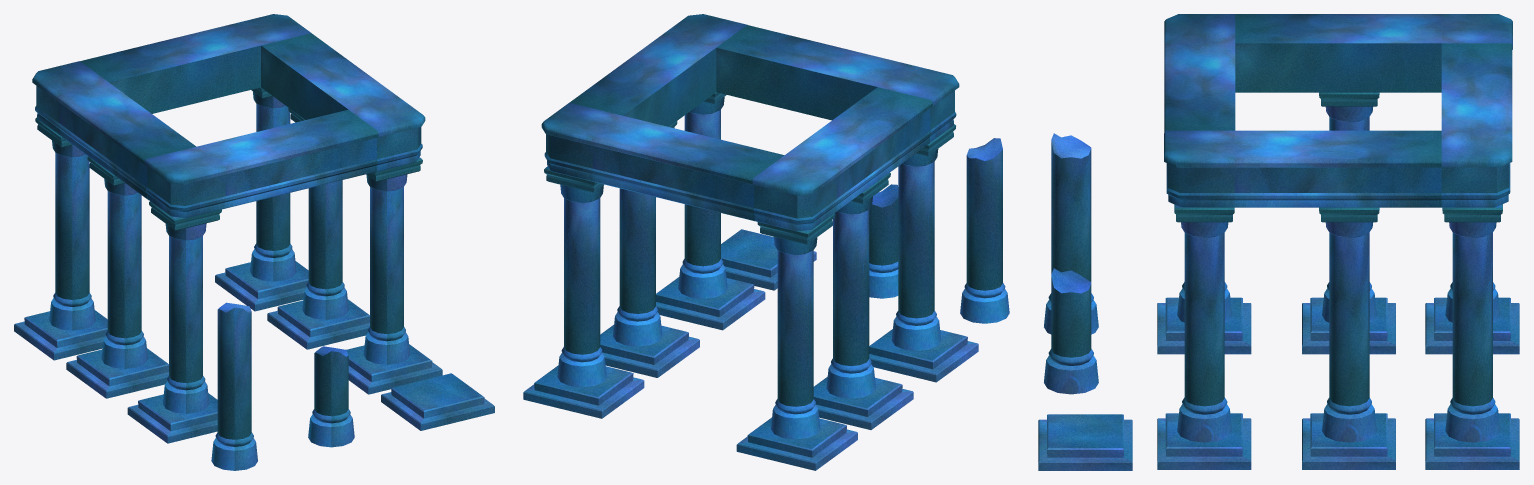
Rendered from column pack.fbx.
3 renders of one model, left to right at view 1: azimuth 30°, elevation 25°; view 2: azimuth 150°, elevation 25°; view 3: azimuth 270°, elevation 25°, orthographic. The views are drawn at different scales.
Visible parts, largest first — view 1: Greek_Pillar_Up_LOD018, Greek_Pillar_Up_LOD017, Greek_Pillar_Up_LOD019, Greek_Pillar_LOD026_08 - Default_0, Greek_Pillar_LOD029_08 - Default_0, Greek_Pillar_Up_LOD016, Greek_Pillar_LOD027_08 - Default_0, Greek_Pillar_LOD028_08 - Default_0, Greek_Pillar_Broken_smoothed2_LOD011, Greek_Pillar_LOD030_08 - Default_0, Greek_Pillar_CornerLOD014, Greek_Pillar_LOD031_08 - Default_0 (+11 smaller); view 2: Greek_Pillar_Up_LOD017, Greek_Pillar_Up_LOD018, Greek_Pillar_Up_LOD019, Greek_Pillar_LOD028_08 - Default_0, Greek_Pillar_LOD031_08 - Default_0, Greek_Pillar_Up_LOD016, Greek_Pillar_LOD026_08 - Default_0, Greek_Pillar_LOD027_08 - Default_0, Greek_Pillar_Broken_smoothed2_LOD011, Greek_Pillar_LOD030_08 - Default_0, Greek_Pillar_CornerLOD015, Greek_Pillar_LOD029_08 - Default_0 (+11 smaller); view 3: Greek_Pillar_Up_LOD019, Greek_Pillar_Up_LOD016, Greek_Pillar_LOD031_08 - Default_0, Greek_Pillar_LOD029_08 - Default_0, Greek_Pillar_LOD030_08 - Default_0, Greek_Pillar_Up_LOD017, Greek_Pillar_Up_LOD018, Greek_Pillar_Broken_smoothed2_LOD011, Greek_Pillar_CornerLOD012, Greek_Pillar_CornerLOD013, Greek_Pillar_Broken_smoothed_LOD012, Greek_Pillar_Base_LOD031 (+9 smaller).
Boxes of the visible parts, x1,y1,x2,y2 form: Greek_Pillar_Up_LOD018: (197,109,378,208); Greek_Pillar_Up_LOD017: (80,24,260,113); Greek_Pillar_Up_LOD019: (57,82,195,200); Greek_Pillar_LOD026_08 - Default_0: (149,201,221,413); Greek_Pillar_LOD029_08 - Default_0: (363,157,422,364); Greek_Pillar_Up_LOD016: (261,33,398,132); Greek_Pillar_LOD027_08 - Default_0: (87,156,147,368); Greek_Pillar_LOD028_08 - Default_0: (35,117,95,330); Greek_Pillar_Broken_smoothed2_LOD011: (211,302,257,470); Greek_Pillar_LOD030_08 - Default_0: (288,108,348,319); Greek_Pillar_CornerLOD014: (144,146,226,218); Greek_Pillar_LOD031_08 - Default_0: (250,87,296,281); Greek_Pillar_Up_LOD017: (591,116,784,221); Greek_Pillar_Up_LOD018: (716,25,908,120); Greek_Pillar_Up_LOD019: (785,87,932,211); Greek_Pillar_LOD028_08 - Default_0: (757,213,835,439); Greek_Pillar_LOD031_08 - Default_0: (544,166,606,387); Greek_Pillar_Up_LOD016: (570,34,716,126); Greek_Pillar_LOD026_08 - Default_0: (891,124,955,350); Greek_Pillar_LOD027_08 - Default_0: (826,173,890,398); Greek_Pillar_Broken_smoothed2_LOD011: (960,138,1009,323); Greek_Pillar_LOD030_08 - Default_0: (613,121,677,346); Greek_Pillar_CornerLOD015: (752,155,839,231); Greek_Pillar_LOD029_08 - Default_0: (678,92,727,298); Greek_Pillar_Up_LOD019: (1235,14,1441,92); Greek_Pillar_Up_LOD016: (1234,130,1441,207); Greek_Pillar_LOD031_08 - Default_0: (1442,204,1502,442); Greek_Pillar_LOD029_08 - Default_0: (1174,204,1234,442); Greek_Pillar_LOD030_08 - Default_0: (1319,207,1379,442); Greek_Pillar_Up_LOD017: (1441,43,1512,165); Greek_Pillar_Up_LOD018: (1164,43,1235,165); Greek_Pillar_Broken_smoothed2_LOD011: (1044,133,1098,334); Greek_Pillar_CornerLOD012: (1441,130,1512,207); Greek_Pillar_CornerLOD013: (1164,130,1234,207); Greek_Pillar_Broken_smoothed_LOD012: (1044,268,1098,394); Greek_Pillar_Base_LOD031: (1038,414,1132,470).
Size of the model in its own units: 1778 by 1581 by 2267.
